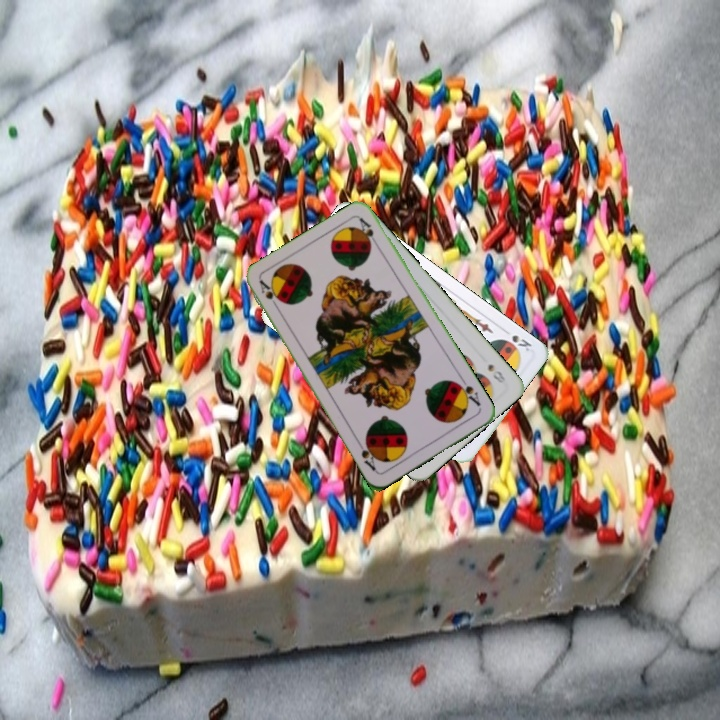S8: (484, 360, 508, 385)
SA: (452, 374, 483, 409), (255, 276, 282, 313)
SK: (508, 331, 534, 356)
